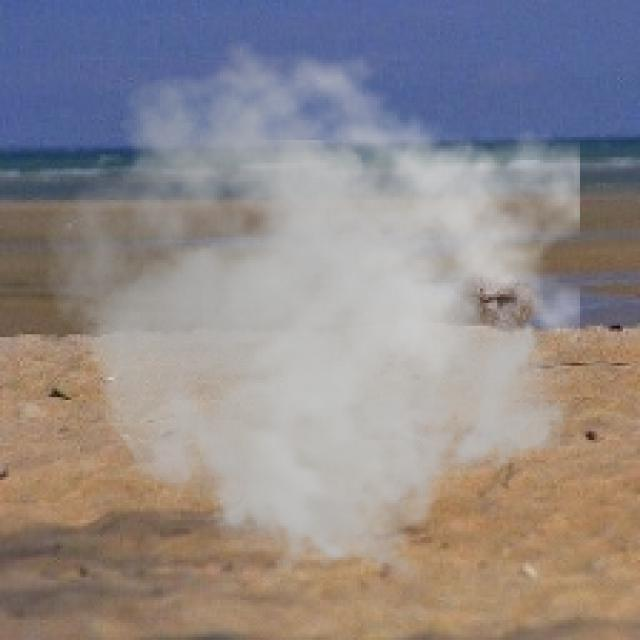smoke: (43, 37, 580, 586)
